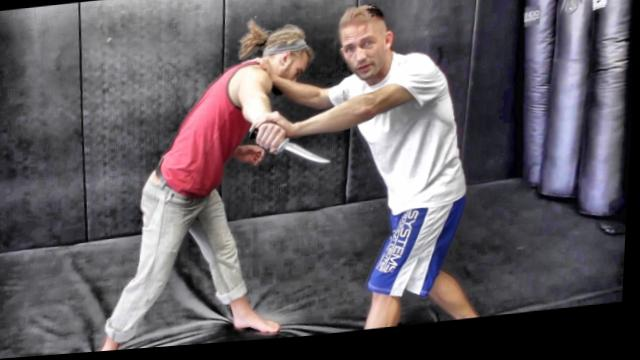knife: (246, 124, 339, 182)
